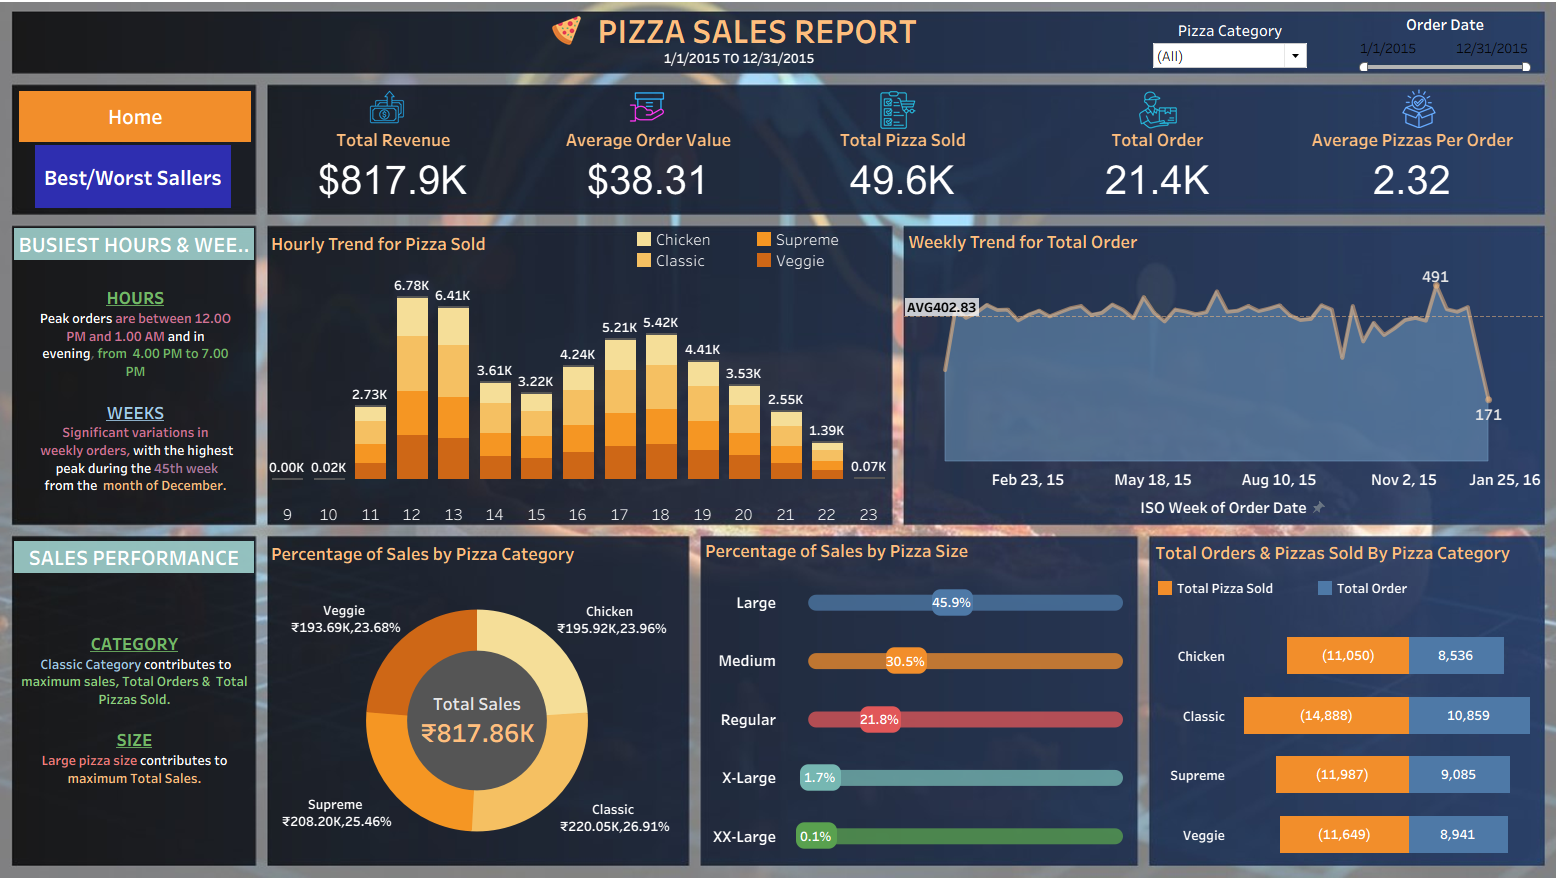

What the dashboard file says about the page in this screenshot:
{"tool":"tableau","page":{"name":"HOME","canvas":[1600,900],"ordinal":1},"visuals":[{"type":"image","param":"Image/Pizza Tableau 1.jpg","box":[8,8,1584,884]},{"type":"text","box":[615,22,327,36]},{"type":"filter","title":"Hourly Trend for Pizza Sold","param":"[federated.1kwuepl01cmklk15xugt21ft2c5y].[none:order_date:qk]","box":[1376,24,180,57]},{"type":"image","param":"Image/pizza-slice.png","box":[564,25,46,30]},{"type":"filter","title":"Hourly Trend for Pizza Sold","param":"[federated.1kwuepl01cmklk15xugt21ft2c5y].[none:pizza_category:nk]","box":[1171,30,160,49]},{"type":"worksheet","title":"Dtae range","mark":"Automatic","box":[584,58,351,21]},{"type":"image","param":"Image/profit-growth.png","box":[378,97,60,39]},{"type":"image","param":"Image/shipping-box.png","box":[638,97,60,39]},{"type":"image","param":"Image/order (1).png","box":[1410,99,60,39]},{"type":"image","param":"Image/order-delivery.png","box":[889,100,60,39]},{"type":"image","param":"Image/delivery-man.png","box":[1149,100,60,39]},{"type":"dashboard-object","box":[40,101,232,51]},{"type":"worksheet","title":"KPI's","mark":"Automatic","box":[287,139,1274,84]},{"type":"dashboard-object","box":[56,155,196,63]},{"type":"worksheet","title":"Weekly Trend for Total Order","mark":"Area","rows":["Calculation_1576726770200578","Calculation_1576726770200578"],"cols":["order_date"],"box":[925,235,639,300]},{"type":"worksheet","title":"Hourly Trend for Pizza Sold","mark":"Bar","rows":["Calculation_1576726770511875","Calculation_1576726770511875"],"cols":["order_time"],"box":[288,237,623,299]},{"type":"text","box":[35,238,240,32]},{"type":"legend","title":"Hourly Trend for Pizza Sold","param":"[federated.1kwuepl01cmklk15xugt21ft2c5y].[none:pizza_category:nk]","box":[655,239,253,53]},{"type":"text","box":[35,276,243,252]},{"type":"worksheet","title":"Percentage of Sales by Pizza Size","mark":"Line","rows":["pizza_size"],"box":[722,544,437,331]},{"type":"worksheet","title":"Percentage of Sales by Pizza Category","mark":"Pie","rows":["Calculation_1576726798917638","Calculation_1576726798970888"],"box":[288,547,420,328]},{"type":"text","box":[1173,547,362,30]},{"type":"text","box":[35,551,240,32]},{"type":"legend","title":"Total Pizzas Sold by Pizza Category","param":"[federated.1kwuepl01cmklk15xugt21ft2c5y].[:Measure Names]","box":[1176,588,382,33]},{"type":"text","box":[34,594,243,252]},{"type":"worksheet","title":"Total Pizzas Sold by Pizza Category","mark":"Automatic","rows":["pizza_category"],"box":[1171,636,394,238]}]}

Visuals, with their boxes in screenshot pixels (x1, y1, x2, y2), scaled from the page's 1600x900 canvas onto the 1556x879 screenshot:
image: detection(8, 8, 1548, 871)
text: detection(598, 21, 916, 57)
"Hourly Trend for Pizza Sold" filter: detection(1338, 23, 1513, 79)
image: detection(548, 24, 593, 54)
"Hourly Trend for Pizza Sold" filter: detection(1139, 29, 1294, 77)
"Dtae range" worksheet: detection(568, 57, 909, 77)
image: detection(368, 95, 426, 133)
image: detection(620, 95, 679, 133)
image: detection(1371, 97, 1430, 135)
image: detection(865, 98, 923, 136)
image: detection(1117, 98, 1176, 136)
dashboard-object: detection(39, 99, 265, 148)
"KPI's" worksheet: detection(279, 136, 1518, 218)
dashboard-object: detection(54, 151, 245, 213)
"Weekly Trend for Total Order" worksheet (Area marks): detection(900, 230, 1521, 523)
"Hourly Trend for Pizza Sold" worksheet (Bar marks): detection(280, 231, 886, 523)
text: detection(34, 232, 267, 264)
"Hourly Trend for Pizza Sold" legend: detection(637, 233, 883, 285)
text: detection(34, 270, 270, 516)
"Percentage of Sales by Pizza Size" worksheet (Line marks): detection(702, 531, 1127, 855)
"Percentage of Sales by Pizza Category" worksheet (Pie marks): detection(280, 534, 689, 855)
text: detection(1141, 534, 1493, 564)
text: detection(34, 538, 267, 569)
"Total Pizzas Sold by Pizza Category" legend: detection(1144, 574, 1515, 607)
text: detection(33, 580, 269, 826)
"Total Pizzas Sold by Pizza Category" worksheet: detection(1139, 621, 1522, 854)
